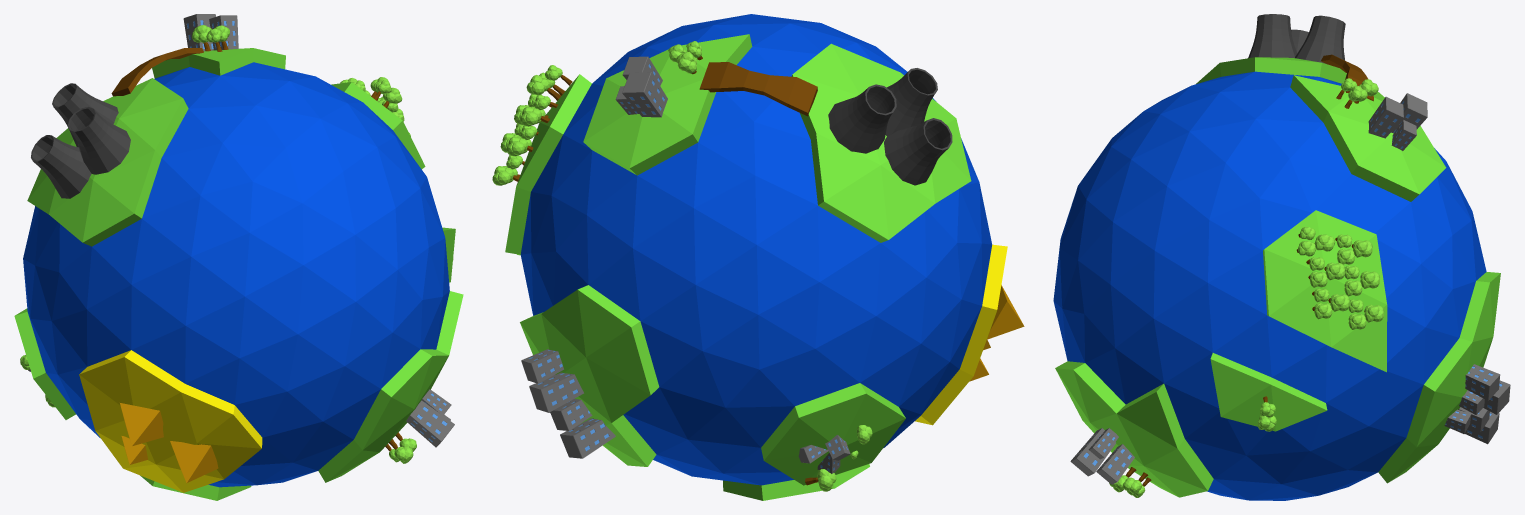
The model's file is EarthTester.fbx.
The picture shows the model from 3 angles, left to right: view 1: azimuth 30°, elevation 25°; view 2: azimuth 150°, elevation 25°; view 3: azimuth 270°, elevation 25°; orthographic projection. The views are drawn at different scales.
Parts seen in each view (by area): view 1: Icosphere; view 2: Icosphere; view 3: Icosphere.
Boxes of the visible parts, x1=… form: Icosphere: x1=14, y1=14, x2=463, y2=500; Icosphere: x1=492, y1=14, x2=1024, y2=500; Icosphere: x1=1053, y1=14, x2=1510, y2=500.
Bounding box in the file's own units: 651 × 645 × 629.
